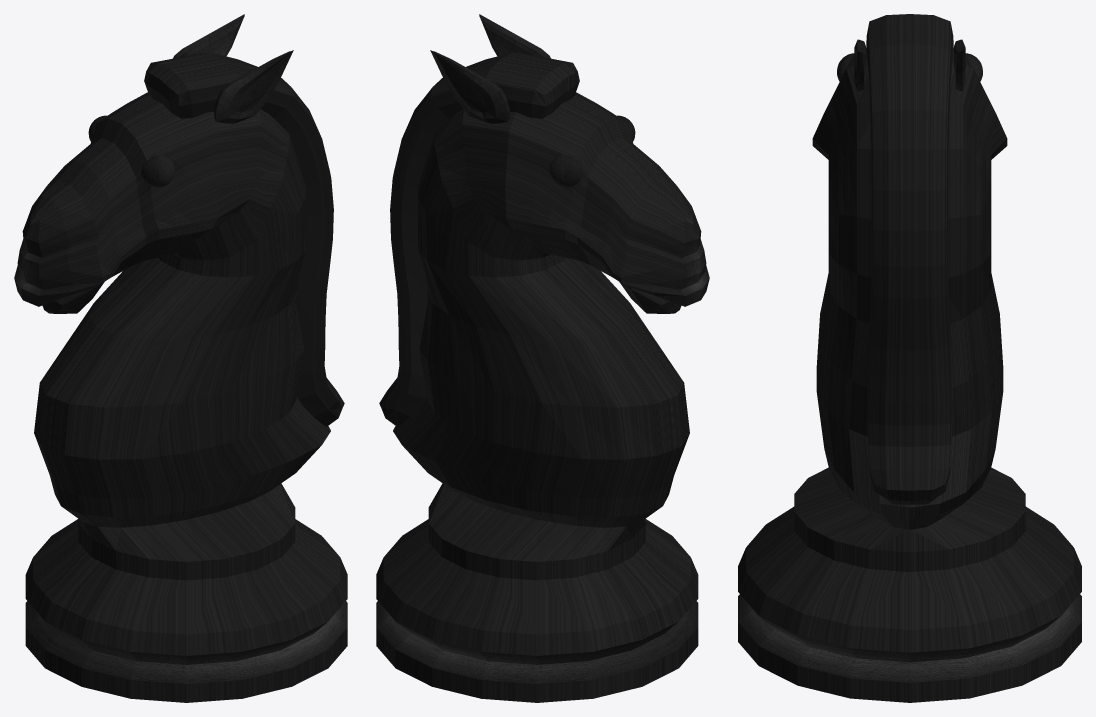
The model's file is b_knight_2.obj.
3 views of the same model, side by side, from view 1: azimuth 30°, elevation 25°; view 2: azimuth 150°, elevation 25°; view 3: azimuth 270°, elevation 25° (orthographic). The views are drawn at different scales.
Size of the model in its own units: 0.1605 by 0.2893 by 0.1422.
1 material, 1 textured.
